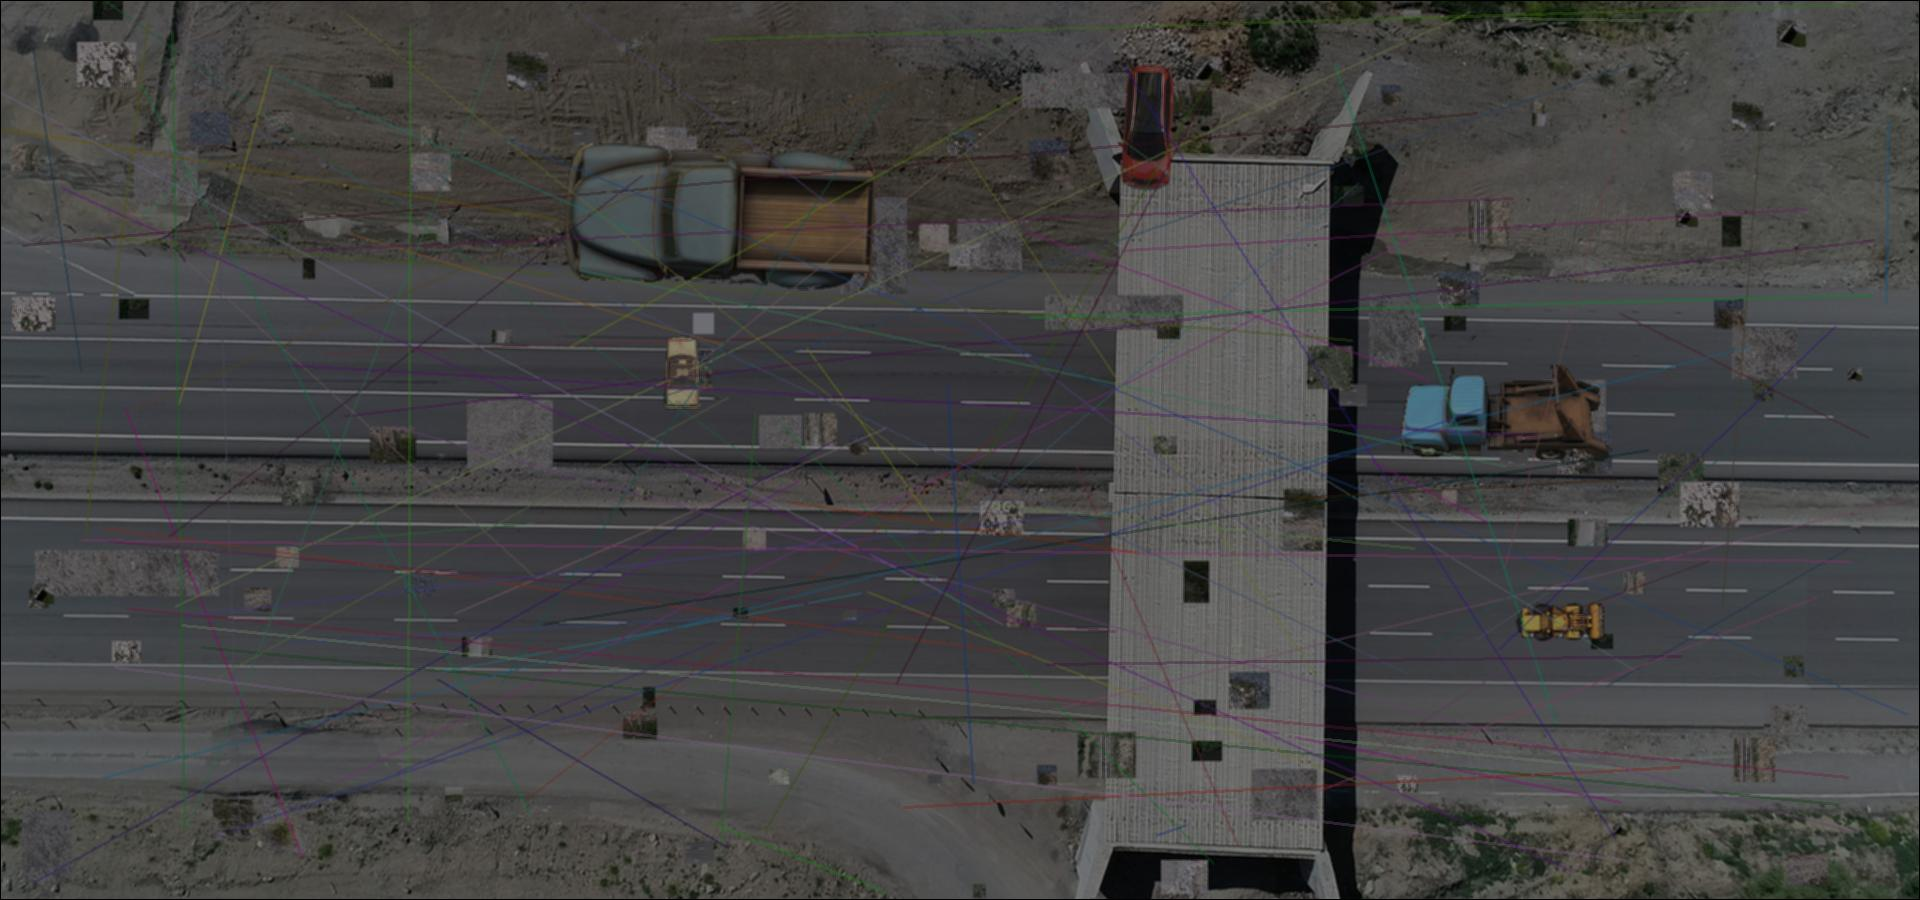arac: (563, 142, 878, 294), (1401, 365, 1609, 467), (1116, 62, 1177, 192), (1515, 600, 1607, 642), (662, 336, 702, 414)
